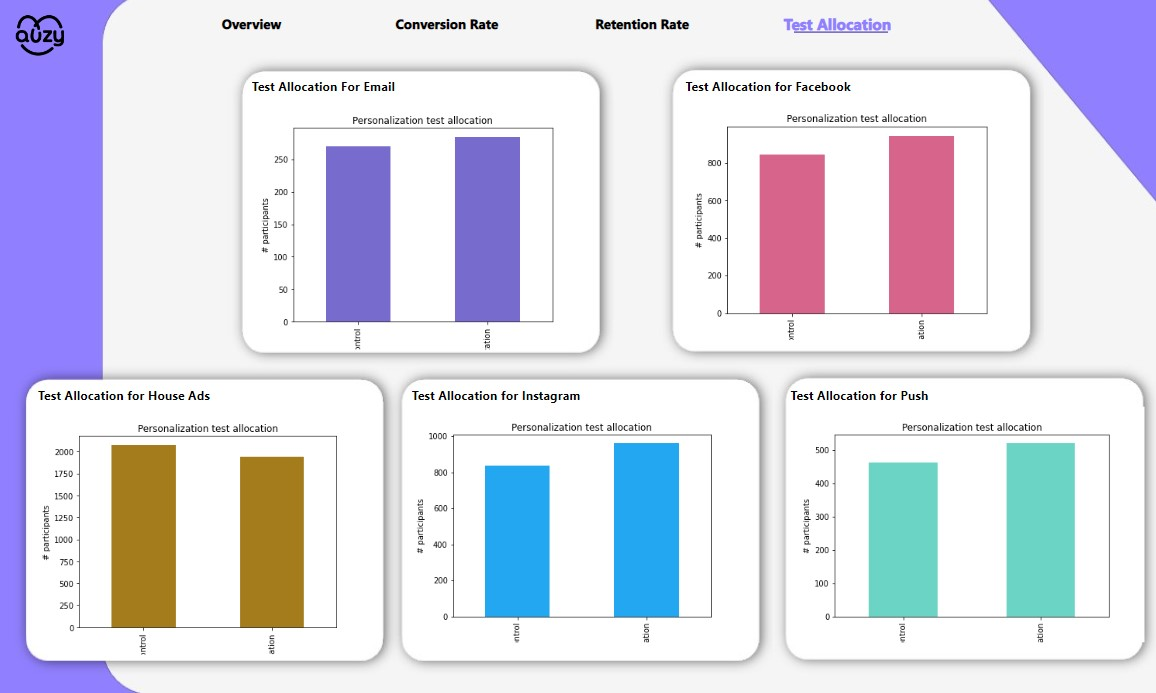

The page's visual inventory and layout, read from the dashboard file:
{"tool":"powerbi","page":{"name":"Test Allocation","canvas":[1500,900],"ordinal":3},"visuals":[{"type":"pythonVisual","title":"Test Allocation For Email","fields":{"Values":["marketing.user_id","marketing.marketing_channel","marketing.variant"]},"box":[320.3,106.2,440.6,356.2],"z":0},{"type":"pythonVisual","title":"Test Allocation for Facebook","fields":{"Values":["marketing.user_id","marketing.variant","marketing.marketing_channel"]},"box":[881.2,106.2,442.2,343.8],"z":1000},{"type":"pythonVisual","title":"Test Allocation for House Ads","fields":{"Values":["marketing.user_id","marketing.variant","marketing.marketing_channel"]},"box":[45.3,504.7,437.5,351.6],"z":2000},{"type":"pythonVisual","title":"Test Allocation for Push","fields":{"Values":["marketing.marketing_channel","marketing.user_id","marketing.variant"]},"box":[1015.6,504.7,467.2,335.9],"z":3000},{"type":"pythonVisual","title":"Test Allocation for Instagram","fields":{"Values":["marketing.marketing_channel","marketing.user_id","marketing.variant"]},"box":[528.1,504.7,439.1,335.9],"z":4000},{"type":"pageNavigator","box":[204.7,10.9,1000,50],"z":5000},{"type":"shape","box":[1026.6,35.9,121.9,25],"z":6000},{"type":"image","box":[0,1.5,105.6,98.2],"z":6001}]}

Visuals, with their boxes in screenshot pixels (x1, y1, x2, y2), scaled from the page's 1500x900 canvas onto the 1156x693 screenshot:
"Test Allocation For Email" pythonVisual: [247, 82, 586, 356]
"Test Allocation for Facebook" pythonVisual: [679, 82, 1020, 346]
"Test Allocation for House Ads" pythonVisual: [35, 389, 372, 659]
"Test Allocation for Push" pythonVisual: [783, 389, 1143, 647]
"Test Allocation for Instagram" pythonVisual: [407, 389, 745, 647]
pageNavigator: [158, 8, 928, 47]
shape: [791, 28, 885, 47]
image: [0, 1, 81, 77]
